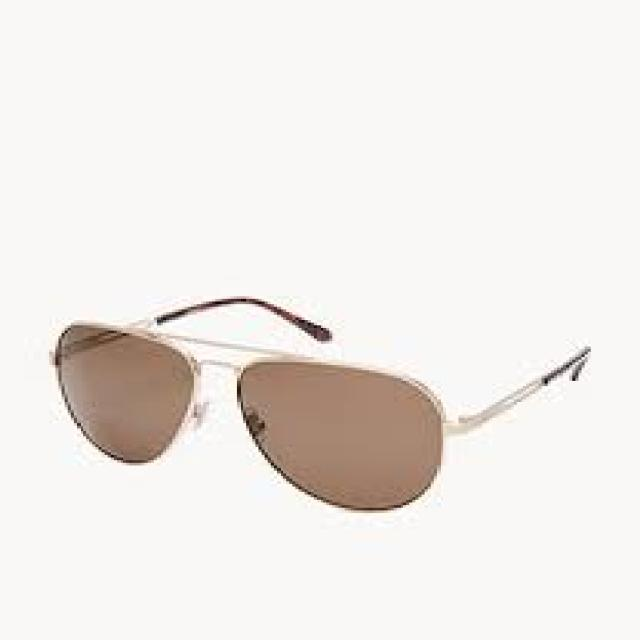sunglasses: (43, 312, 452, 510)
